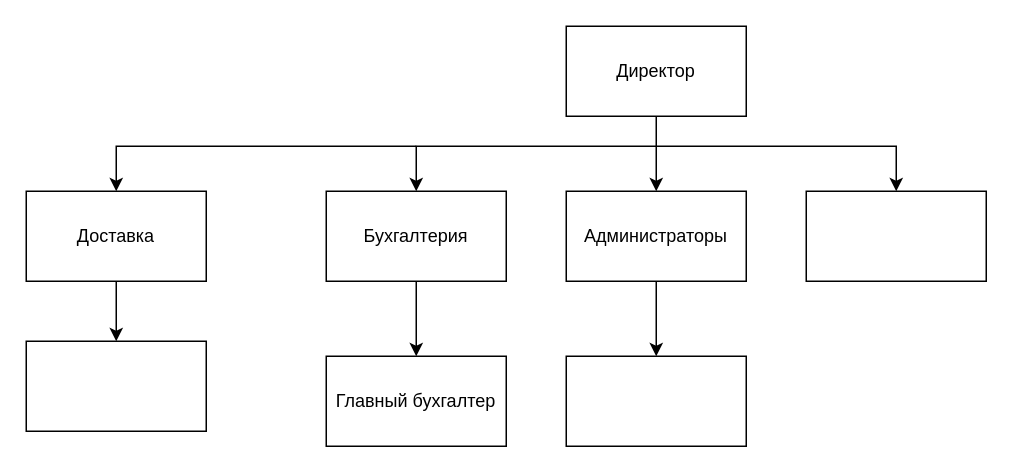
This 1013x473 diagram has some shape labels left out. Here are the shapes that lost their labels. From the top down, the centre of each, then its label:
At (895,235): "Менеджнры".
At (115,385): "Службы доставки".
At (655,400): "Админы".
